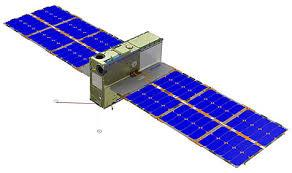antenna: (54, 99, 97, 109)
body: (90, 28, 162, 106)
solar: (121, 67, 288, 169), (5, 1, 124, 65)
